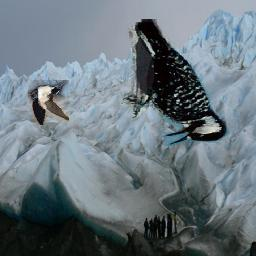Swallow: (29, 81, 70, 126)
Woodpecker: (121, 20, 231, 147)
